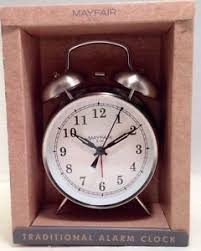alarm_clock: (37, 40, 161, 218)
